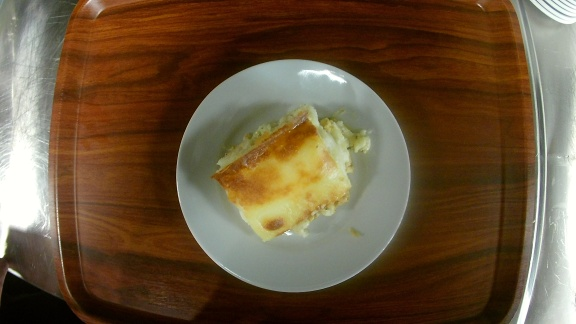firinmakarna: (177, 58, 413, 292)
